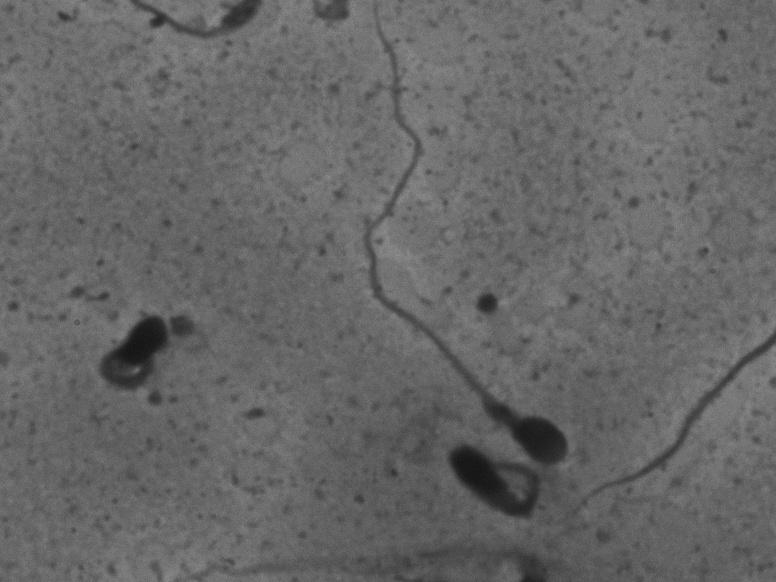Abnormal: (57, 290, 210, 435), (439, 430, 548, 534)
Normal: (341, 5, 578, 475)
